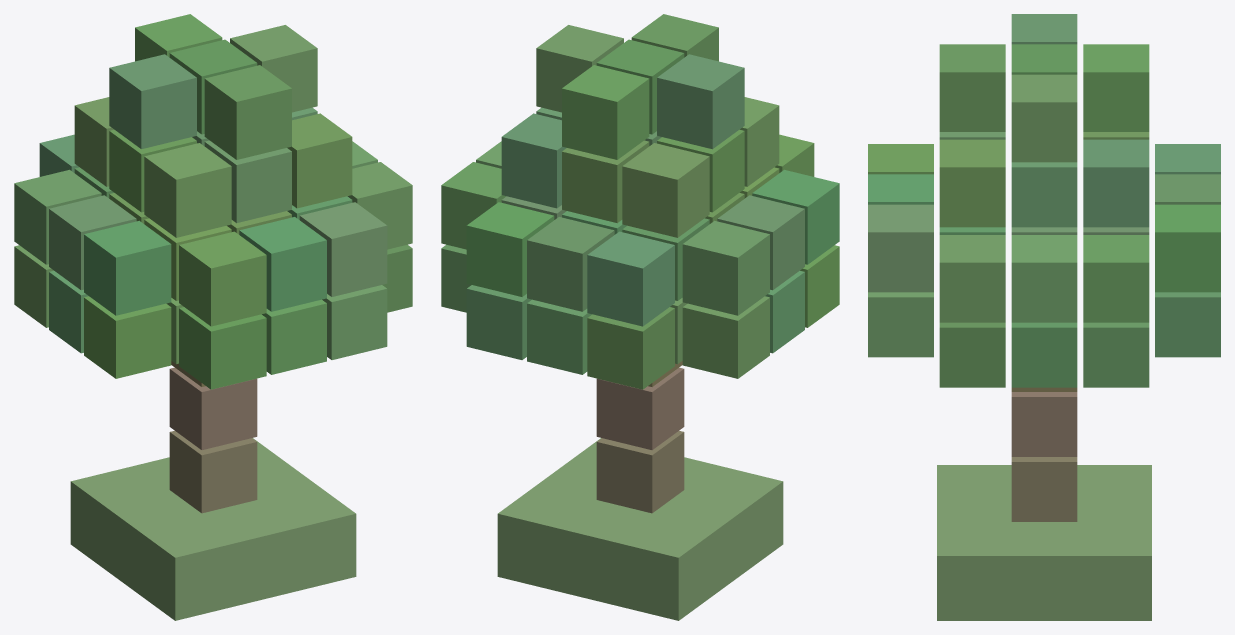
Rendered from arvore_minecraft.glb.
3 views of the same model, side by side, from view 1: azimuth 30°, elevation 25°; view 2: azimuth 150°, elevation 25°; view 3: azimuth 270°, elevation 25° (orthographic). The views are drawn at different scales.
Visible parts, largest first — view 1: world; view 2: world; view 3: world.
Boxes of the visible parts, x1=… form: world: x1=14, y1=14, x2=412, y2=620; world: x1=441, y1=14, x2=839, y2=620; world: x1=868, y1=14, x2=1220, y2=620.
Bounding box in the file's own units: 4.92 × 7.96 × 4.92.
